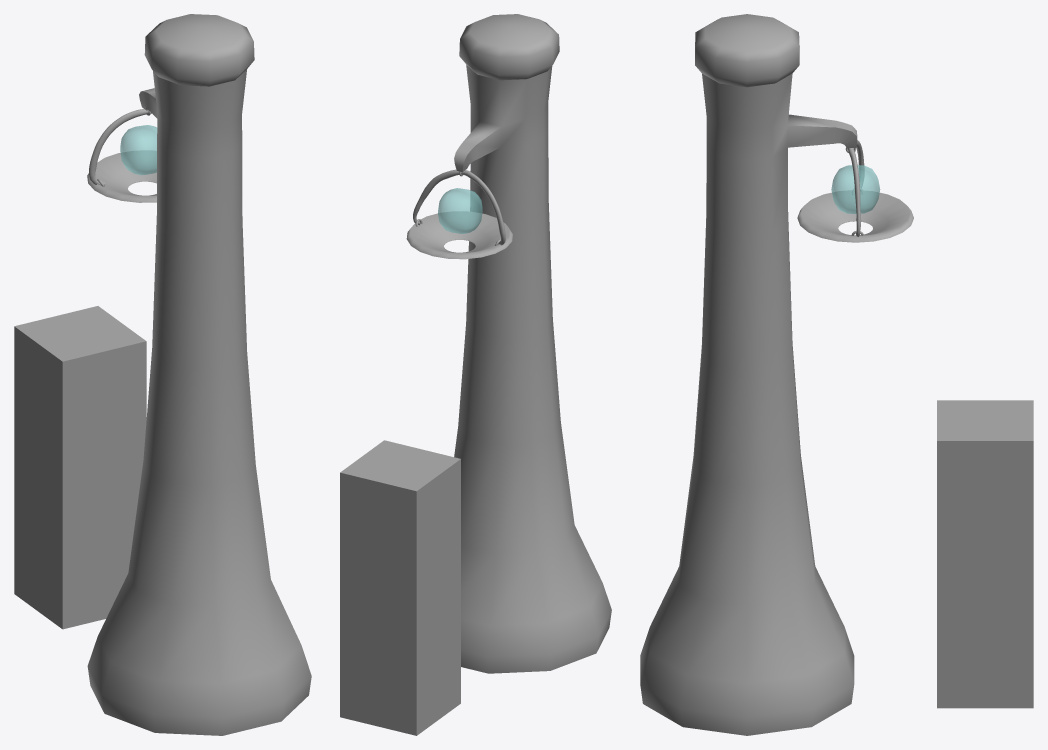
File: EN_OutdoorLamp.fbx
3 views of the same model, side by side, from view 1: azimuth 30°, elevation 25°; view 2: azimuth 150°, elevation 25°; view 3: azimuth 270°, elevation 25° (orthographic). The views are drawn at different scales.
Parts seen in each view (by area): view 1: pCylinder4, pCube2, polySurface11, polySurface4; view 2: pCylinder4, pCube2, polySurface11, polySurface4; view 3: pCylinder4, pCube2, polySurface11, polySurface4.
Boxes of the visible parts, x1,y1,x2,y2 form: pCylinder4: (87, 14, 311, 735); pCube2: (14, 306, 146, 629); polySurface11: (87, 150, 156, 202); polySurface4: (120, 125, 157, 175); pCylinder4: (413, 14, 611, 673); pCube2: (340, 440, 460, 735); polySurface11: (406, 211, 512, 259); polySurface4: (438, 188, 482, 234); pCylinder4: (640, 14, 864, 735); pCube2: (937, 400, 1033, 708); polySurface11: (797, 188, 913, 242); polySurface4: (831, 165, 880, 214).
Bounding box in the file's own units: 140 × 454 × 244.
